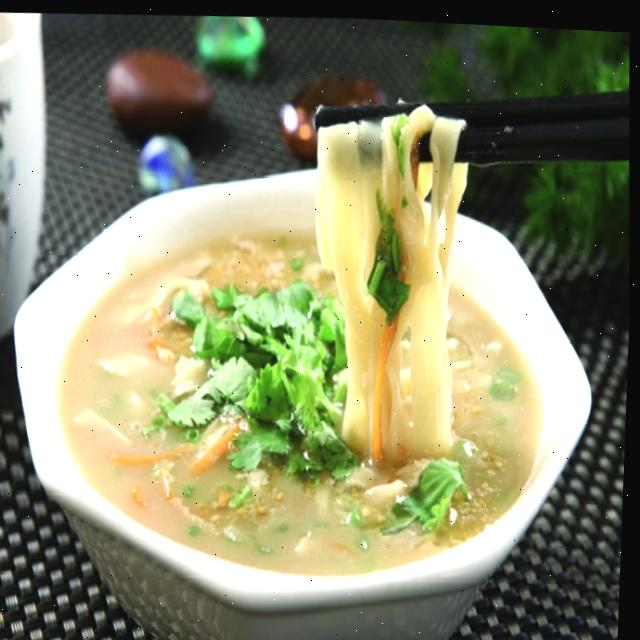面条主食: (54, 79, 589, 605)
